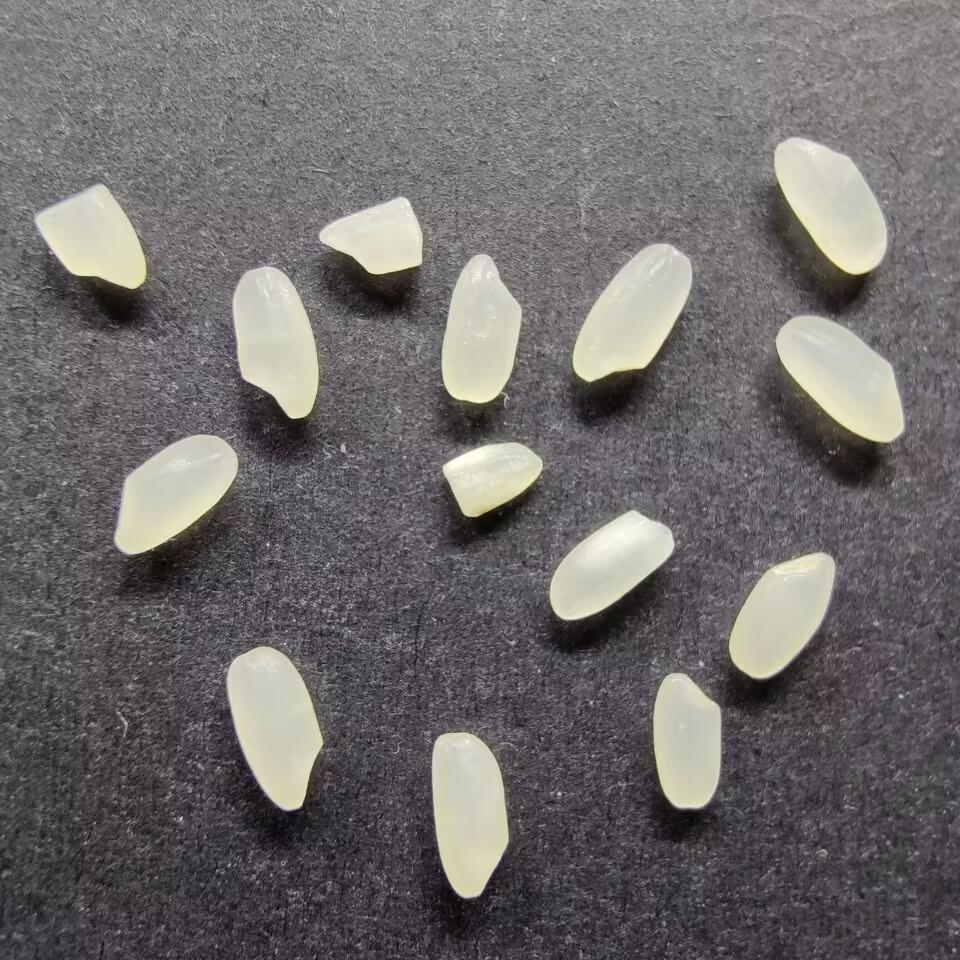broken: (31, 182, 148, 290), (316, 194, 425, 277), (442, 440, 544, 518)
rice: (775, 312, 908, 446), (571, 241, 693, 386), (771, 135, 889, 276), (226, 646, 325, 811), (112, 433, 239, 555), (547, 506, 677, 623), (728, 550, 837, 681), (428, 731, 512, 900), (231, 265, 319, 421), (441, 252, 524, 404), (651, 670, 727, 811)
